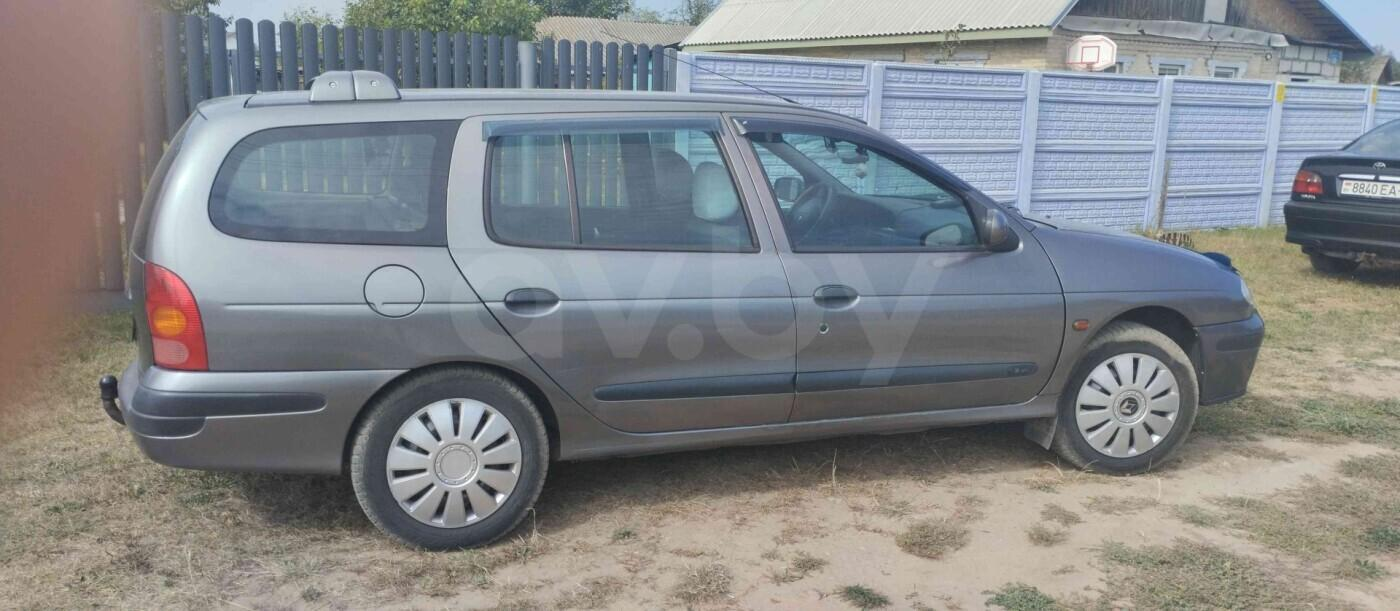Megane_1999-2003: (107, 81, 1274, 549)
